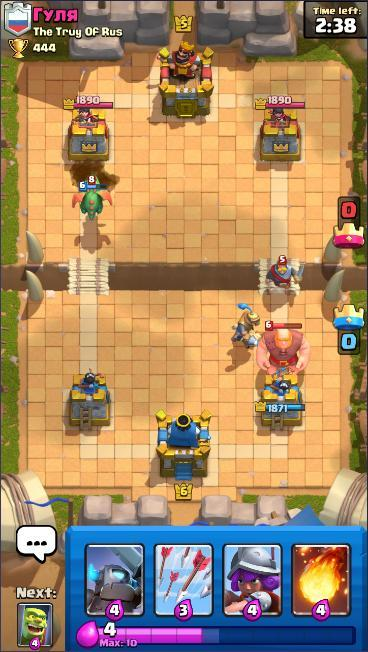ally_hungry_dragon: (71, 180, 115, 223)
ally_prince: (229, 301, 264, 351)
enemy_giant: (254, 319, 311, 378)
enemy_knight: (264, 254, 305, 292)
enemy_mini_pekka: (80, 175, 107, 211)
